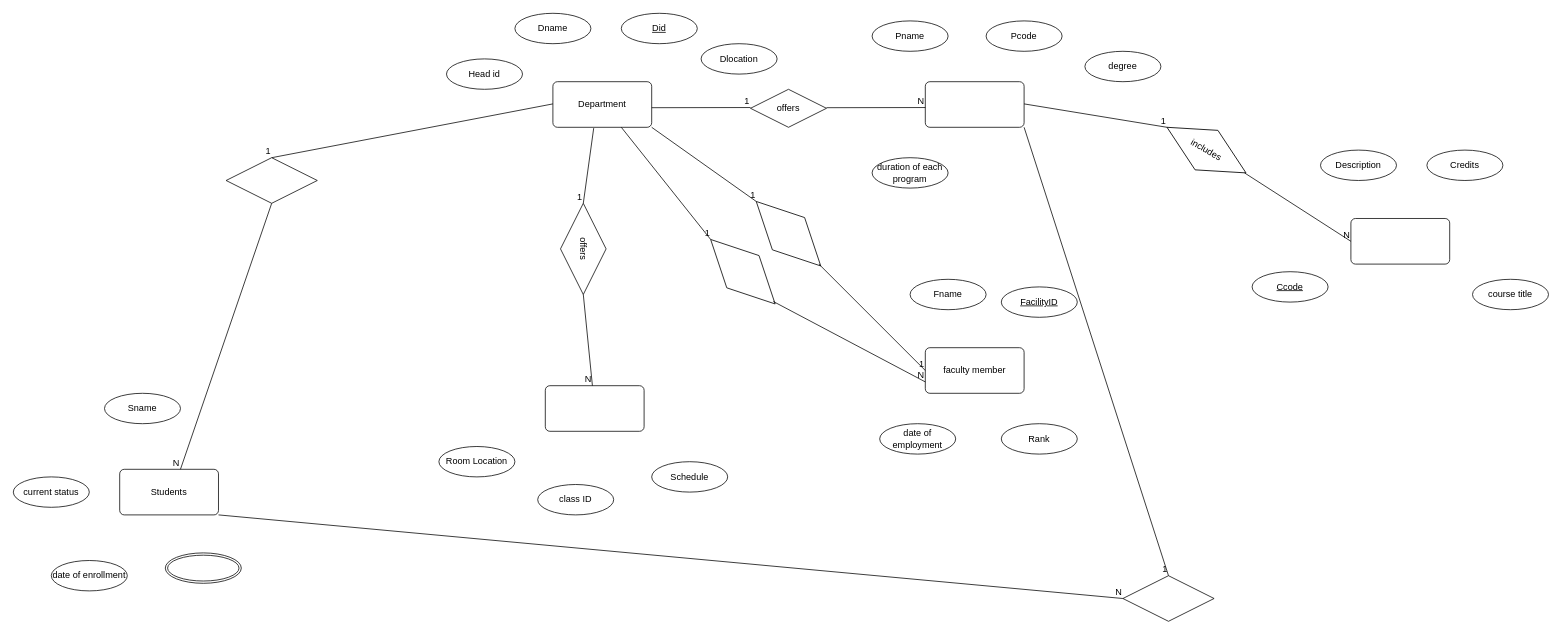
Image size: 1562x635. Some labels were removed from this diagram. The shapes that lost their labels are listed below. From the top down, each one's box as (x1, y1, x2, y2) in pixels, then its label:
(925, 81, 1024, 127): programs
(225, 157, 317, 203): Advice
(739, 184, 837, 282): has
(1350, 218, 1450, 264): courses
(694, 222, 791, 320): employs
(545, 385, 644, 431): classes
(165, 552, 241, 583): Phone Number
(1122, 575, 1214, 621): multiple
